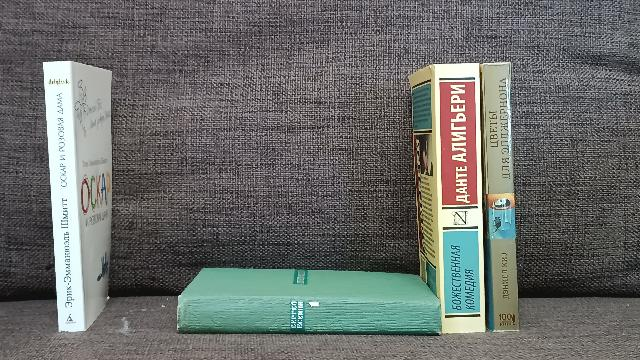book-s-spine: (435, 63, 486, 334), (43, 61, 85, 332), (179, 298, 442, 337), (483, 63, 520, 332)
